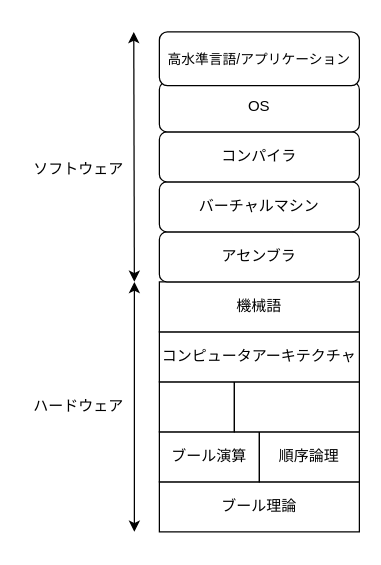
Some shapes in this 381 by 565 pixel diagram are drawn without their labels. Here are the shapes that lost their labels. From the top down, the box of each, then its label:
(158, 381, 234, 432): ALU
(233, 381, 359, 432): メモリ
